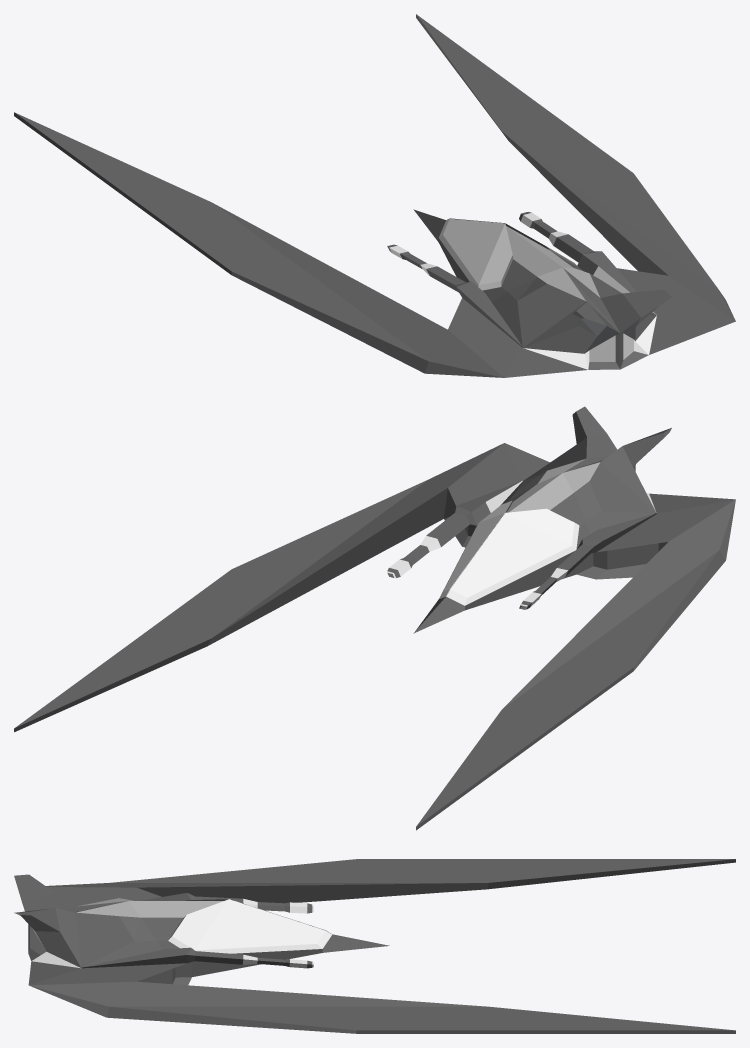
File: old-traveler-texture.fbx
3 renders of one model, top to bottom at view 1: azimuth 30°, elevation 25°; view 2: azimuth 150°, elevation 25°; view 3: azimuth 270°, elevation 25°, orthographic. The views are drawn at different scales.
Visible parts, largest first — view 1: Traveler; view 2: Traveler; view 3: Traveler.
Boxes of the visible parts, bbox=[...] form: Traveler: bbox=[14, 14, 735, 377]; Traveler: bbox=[14, 406, 735, 830]; Traveler: bbox=[14, 859, 735, 1033].
Bounding box in the file's own units: 808 × 159 × 1439.
Materials: 1 (1 with a texture image).
